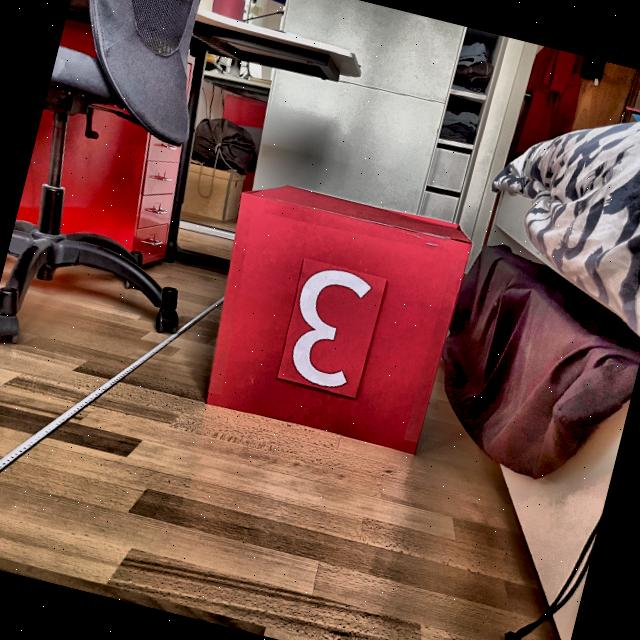red box: (188, 172, 476, 458)
three: (278, 261, 380, 394)
